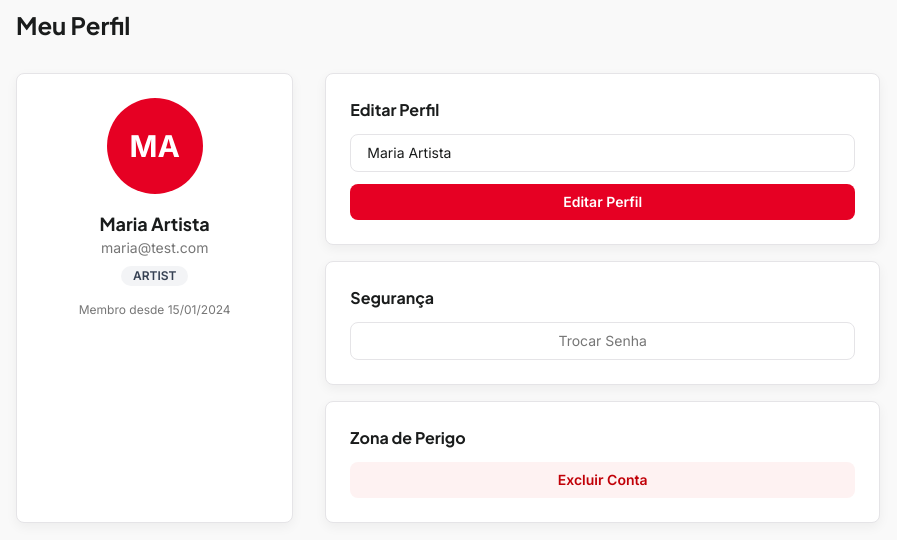
Perfil › edits user name successfully
Expected: the heading "Maria Artista" is shown, left=100, top=212, right=210, bottom=235
Replace the text in the field with placeholder "Novo nome" with "Novo Nome" at (603, 153), box left=350, top=134, right=855, bottom=172
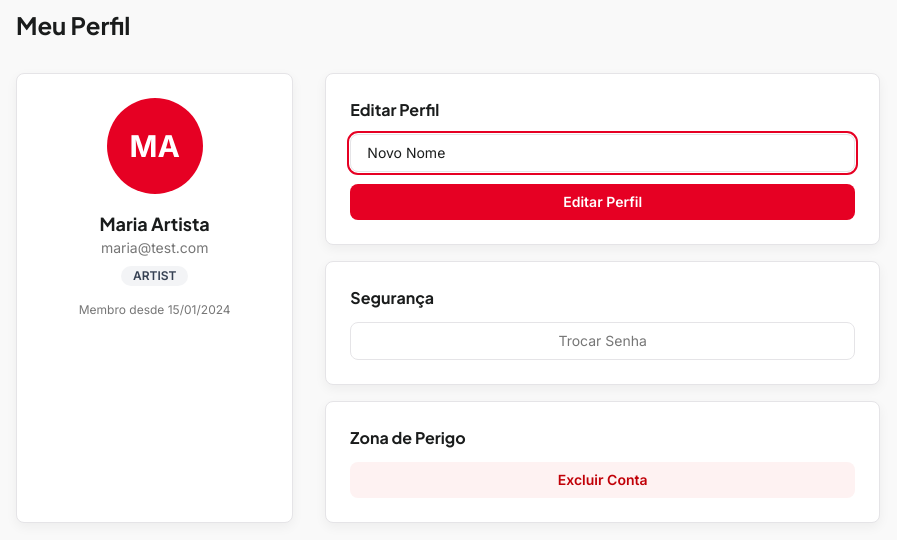
Click the button "Editar Perfil" at (603, 202), box left=350, top=184, right=855, bottom=220
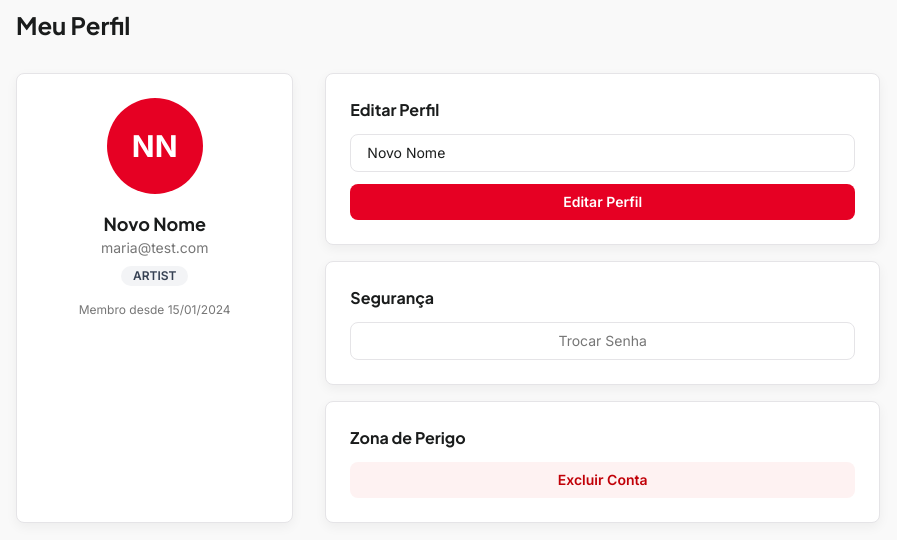
Result: the heading "Novo Nome" is shown at left=103, top=212, right=206, bottom=235
